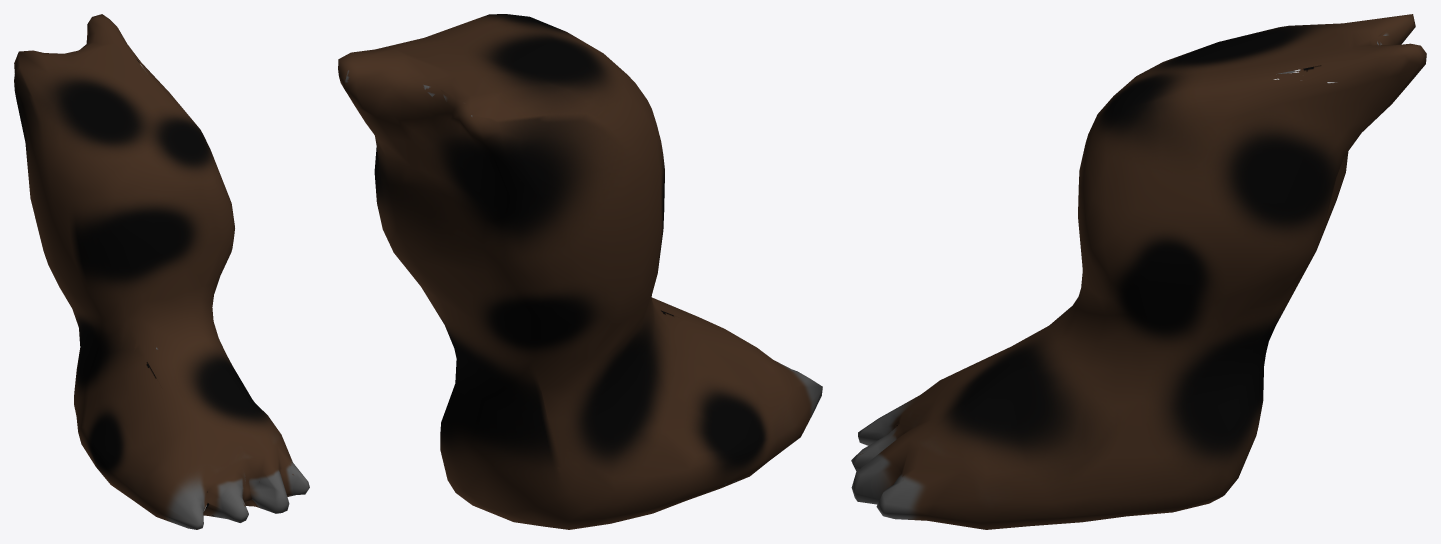
File: pies3I.fbx
The picture shows the model from 3 angles, left to right: view 1: azimuth 30°, elevation 25°; view 2: azimuth 150°, elevation 25°; view 3: azimuth 270°, elevation 25°; orthographic projection. The views are drawn at different scales.
Visible parts, largest first — view 1: pies3I; view 2: pies3I; view 3: pies3I.
Boxes of the visible parts, <box> form: pies3I: <box>14,14,309,529</box>; pies3I: <box>338,14,822,529</box>; pies3I: <box>851,14,1426,529</box>.
Size of the model in its own units: 14.24 by 29.6 by 32.3.
